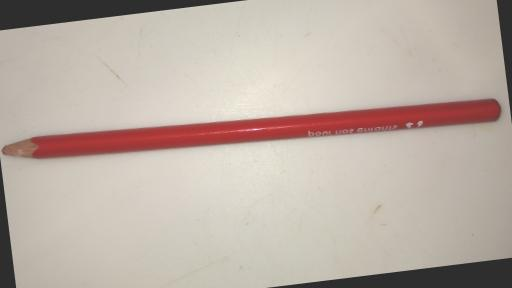Pencil: (0, 79, 501, 183)
